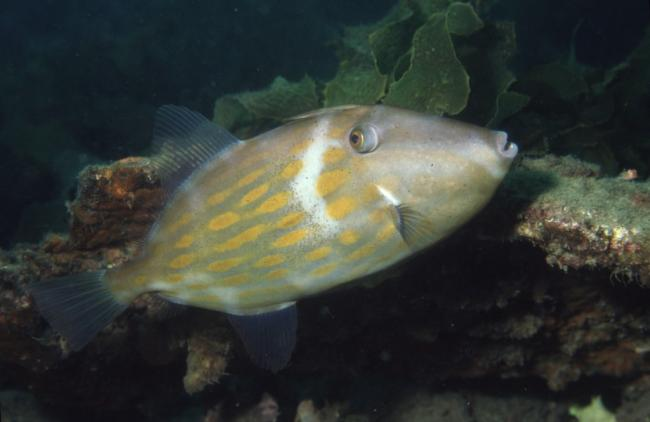fish: (32, 101, 519, 374)
